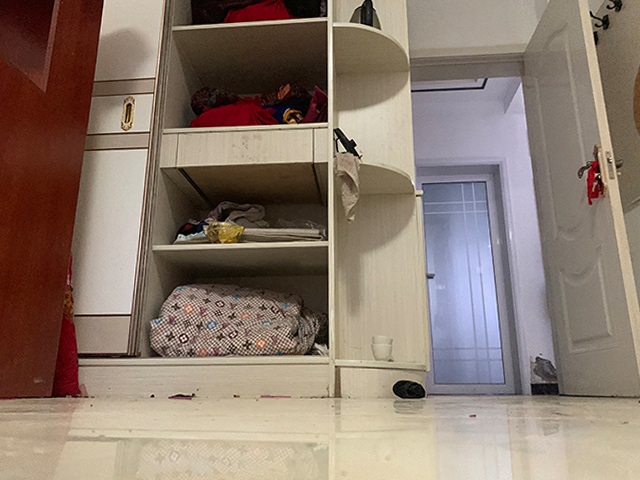cabinet: (67, 50, 451, 398)
socks: (392, 380, 427, 400)
